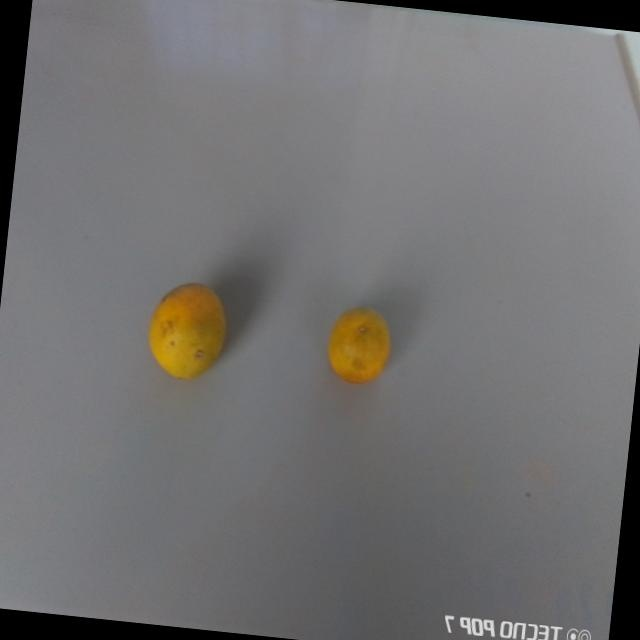agrume: (133, 274, 239, 393), (318, 299, 402, 395)
